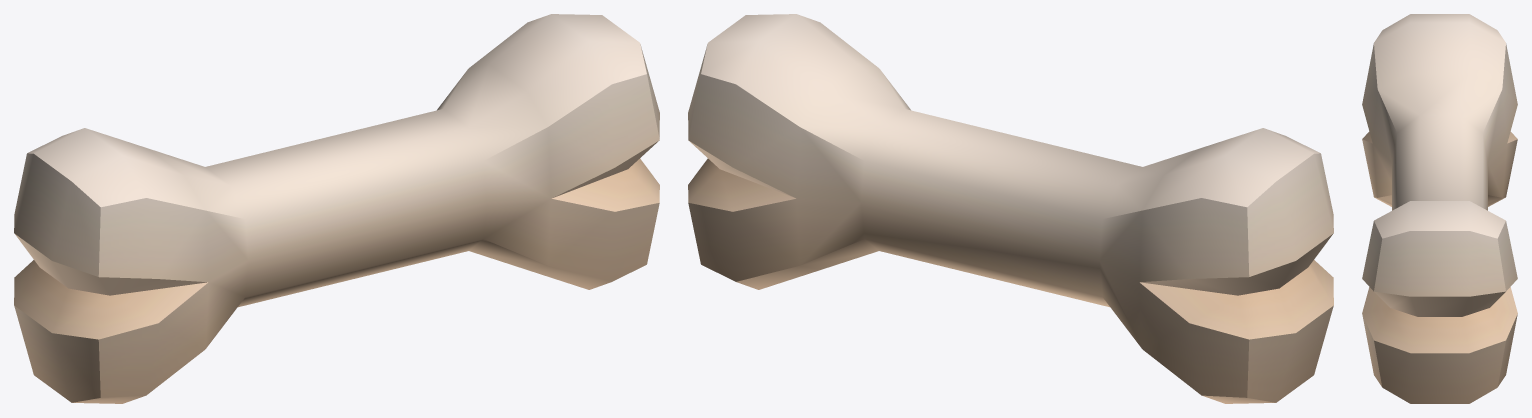
File: bone_A.gltf
The picture shows the model from 3 angles, left to right: view 1: azimuth 30°, elevation 25°; view 2: azimuth 150°, elevation 25°; view 3: azimuth 270°, elevation 25°; orthographic projection. The views are drawn at different scales.
Visible parts, largest first — view 1: bone_A; view 2: bone_A; view 3: bone_A.
Boxes of the visible parts, box(x1,y1,x2,y2) form: bone_A: box(14, 14, 659, 403); bone_A: box(688, 14, 1333, 403); bone_A: box(1362, 14, 1517, 403).
Bounding box in the file's own units: 0.707 × 0.2761 × 0.2007.
1 material, 1 textured.
